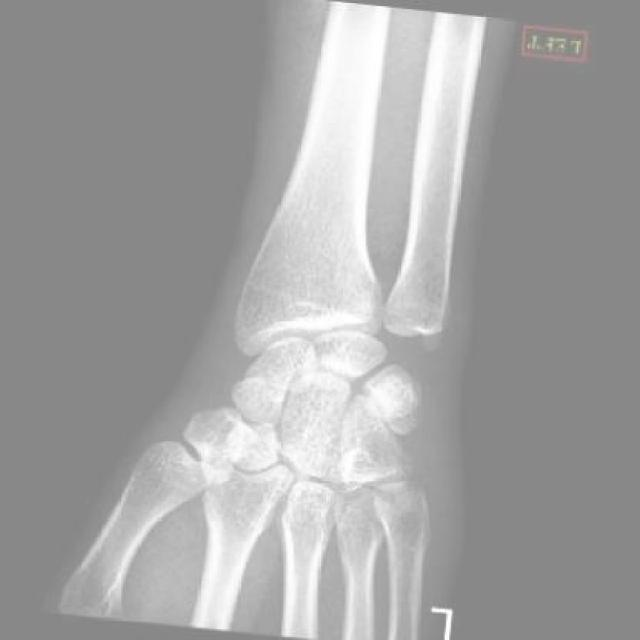Fracture: (238, 365, 291, 407)
